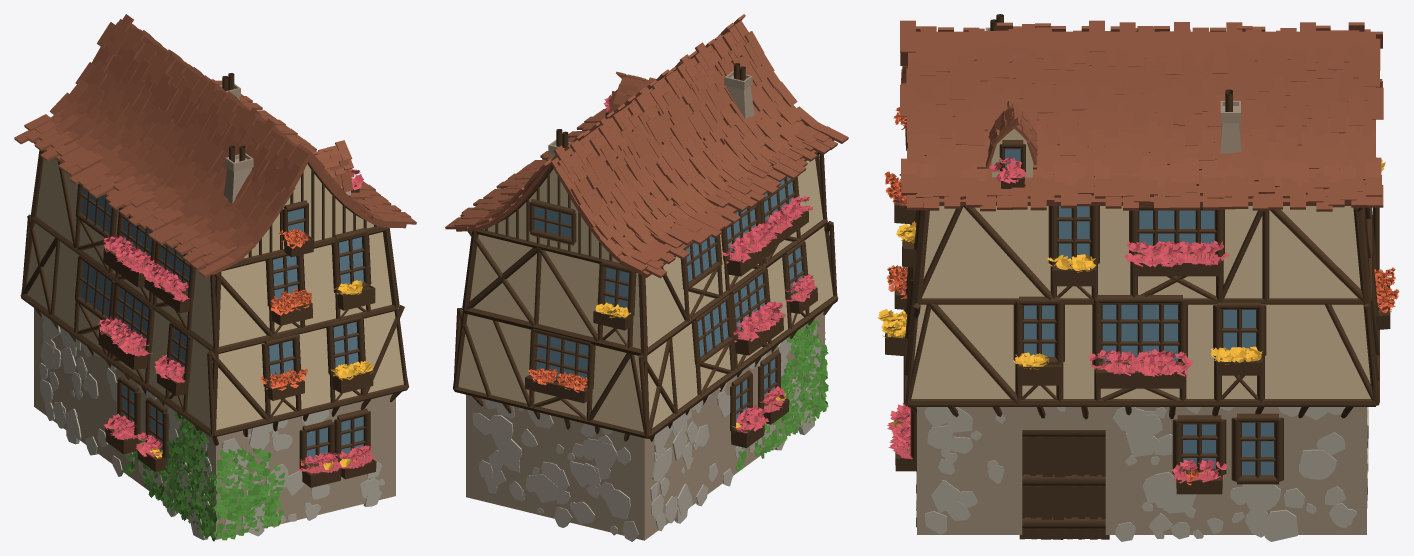
Rendered from wide.glb.
The picture shows the model from 3 angles, left to right: view 1: azimuth 30°, elevation 25°; view 2: azimuth 150°, elevation 25°; view 3: azimuth 270°, elevation 25°; orthographic projection. The views are drawn at different scales.
Visible parts, largest first — view 1: MedievalBuilding; view 2: MedievalBuilding; view 3: MedievalBuilding.
Part boxes in pixels (bbox=[...]): MedievalBuilding: bbox=[14, 14, 416, 541]; MedievalBuilding: bbox=[445, 14, 848, 541]; MedievalBuilding: bbox=[877, 14, 1399, 541].
Size of the model in its own units: 5.14 by 8.12 by 8.13.
